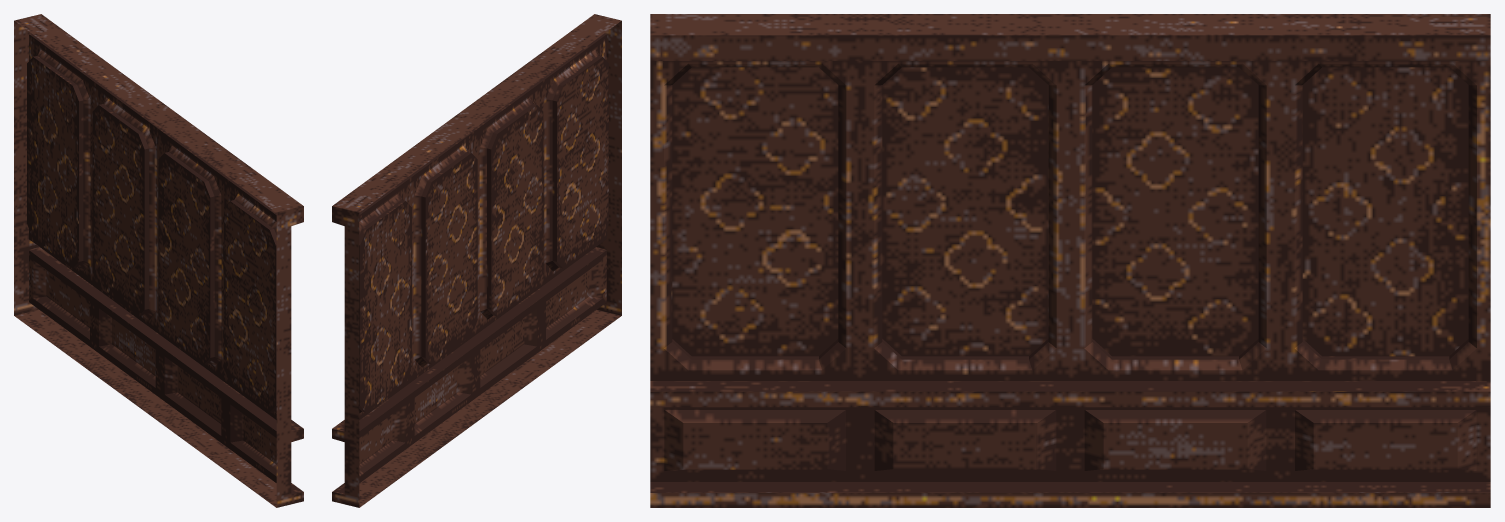
The model's file is Trim_Wood_2m6.fbx.
3 renders of one model, left to right at view 1: azimuth 30°, elevation 25°; view 2: azimuth 150°, elevation 25°; view 3: azimuth 270°, elevation 25°, orthographic. The views are drawn at different scales.
Visible parts, largest first — view 1: Trim_Wood_2m6; view 2: Trim_Wood_2m6; view 3: Trim_Wood_2m6.
Part boxes in pixels (bbox=[...]): Trim_Wood_2m6: bbox=[14, 14, 303, 507]; Trim_Wood_2m6: bbox=[332, 14, 621, 507]; Trim_Wood_2m6: bbox=[650, 14, 1490, 507].
Size of the model in its own units: 12 by 124 by 200.
